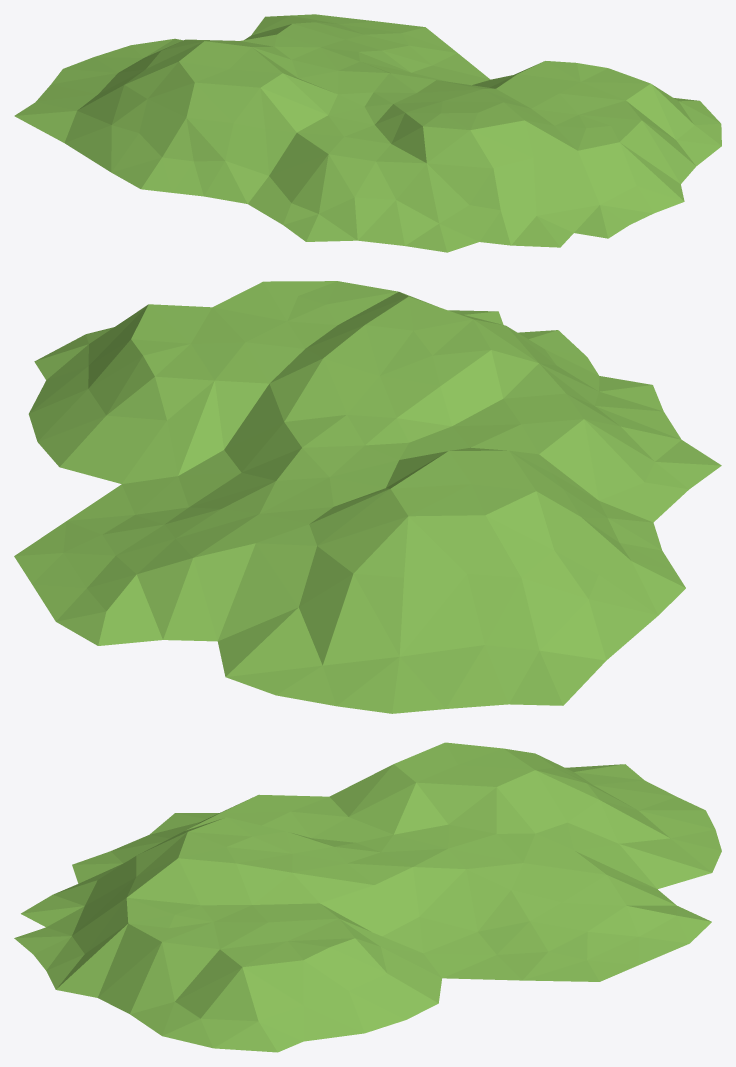
File: MT_Mountain_M_c_05.fbx
The picture shows the model from 3 angles, top to bottom: view 1: azimuth 30°, elevation 25°; view 2: azimuth 150°, elevation 25°; view 3: azimuth 270°, elevation 25°; orthographic projection. The views are drawn at different scales.
Parts seen in each view (by area): view 1: MT_Mountain_M_c_05; view 2: MT_Mountain_M_c_05; view 3: MT_Mountain_M_c_05.
Boxes of the visible parts, x1,y1,x2,y2 form: MT_Mountain_M_c_05: [14, 14, 721, 252]; MT_Mountain_M_c_05: [14, 281, 721, 713]; MT_Mountain_M_c_05: [14, 742, 721, 1052].
Bounding box in the file's own units: 4141 × 522 × 4297.
